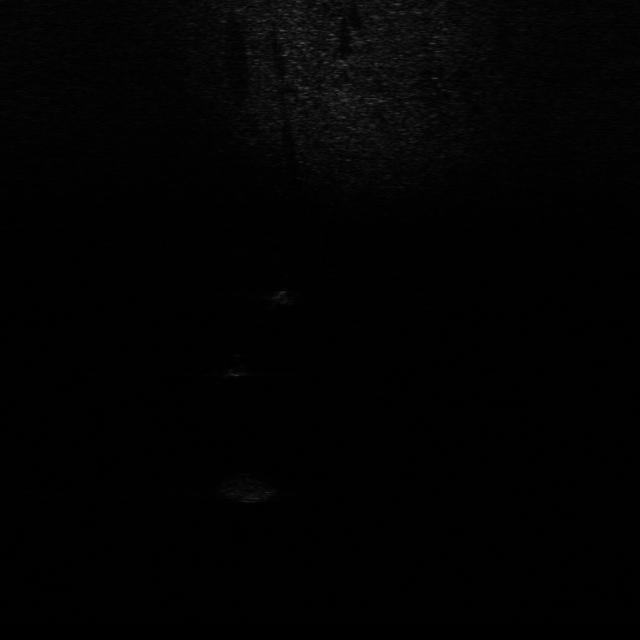ball: (220, 353, 256, 379)
circle cage: (216, 468, 282, 506)
human body: (261, 279, 297, 322)
